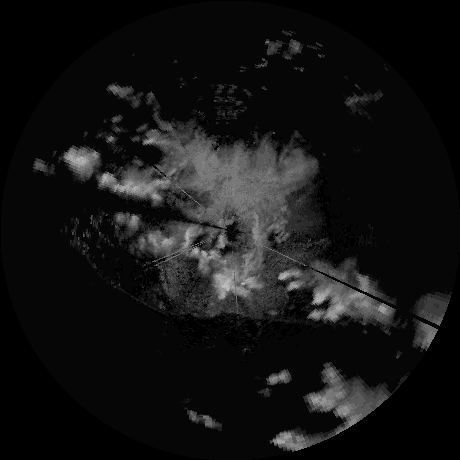frontgust: (68, 226, 178, 316)
